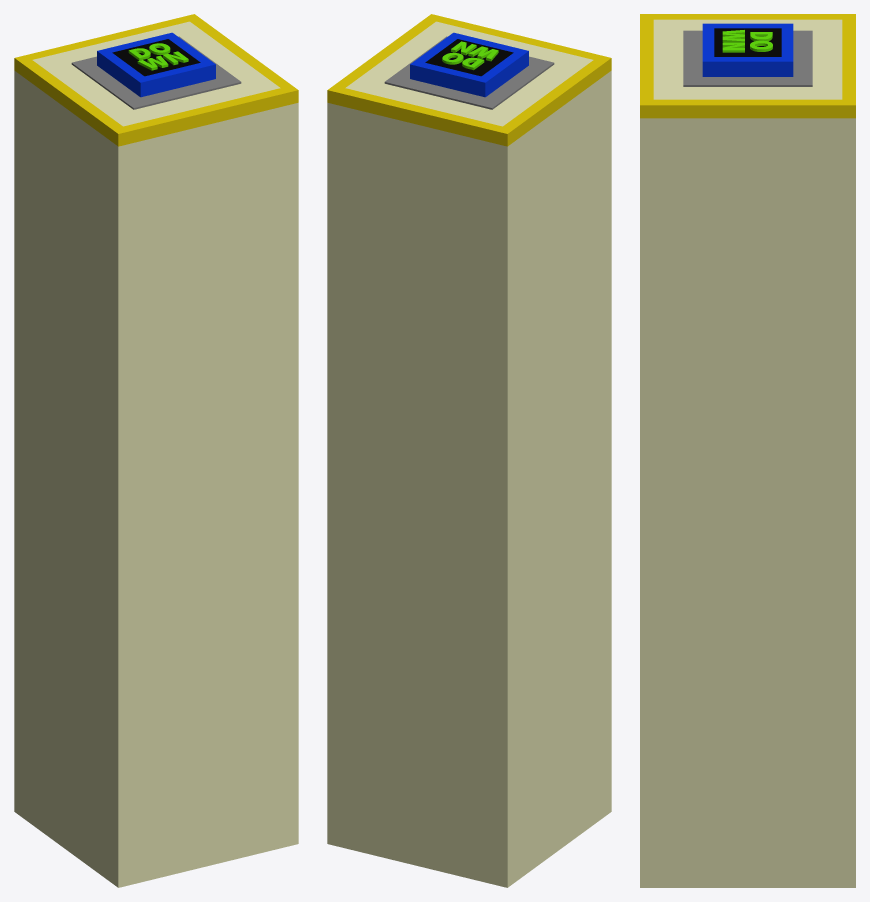
The model's file is yellow_blue_down.fbx.
3 renders of one model, left to right at view 1: azimuth 30°, elevation 25°; view 2: azimuth 150°, elevation 25°; view 3: azimuth 270°, elevation 25°, orthographic. The views are drawn at different scales.
Visible parts, largest first — view 1: yellow_blue_down; view 2: yellow_blue_down; view 3: yellow_blue_down.
Boxes of the visible parts, x1,y1,x2,y2 form: yellow_blue_down: (14, 14, 298, 887); yellow_blue_down: (327, 14, 611, 887); yellow_blue_down: (640, 14, 855, 887).
Size of the model in its own units: 1 by 4.1 by 1.
